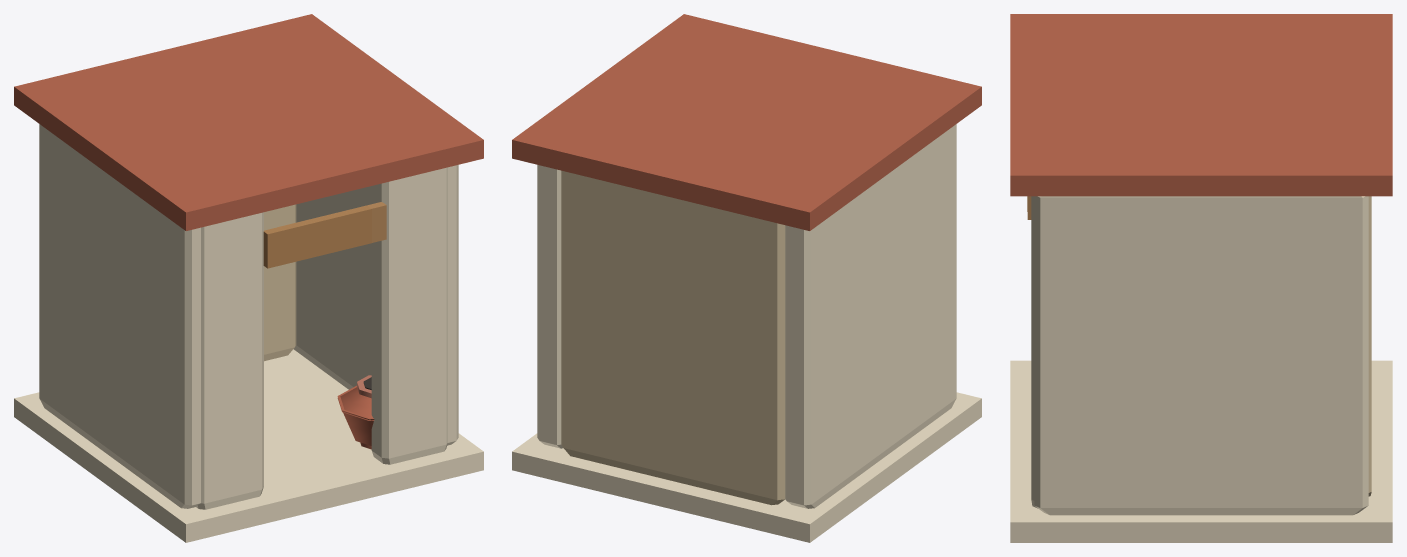
Rendered from pantry.glb.
The picture shows the model from 3 angles, left to right: view 1: azimuth 30°, elevation 25°; view 2: azimuth 150°, elevation 25°; view 3: azimuth 270°, elevation 25°; orthographic projection. The views are drawn at different scales.
Parts seen in each view (by area): view 1: PlasterWall, Floor, DoorSide2, DoorSide, Cap2, Cap4, Cap, PlasterWall2, Cap3, DoorLintel, BackWall, PotBelly3 (+1 smaller); view 2: BackWall, PlasterWall, Cap, Cap3, Floor, Cap2, Cap4, PlasterWall2; view 3: PlasterWall2, Cap3, Cap4, Floor, Cap, Cap2, DoorSide2, BackWall.
Part boxes in pixels (bbox=[...]): PlasterWall: bbox=[39, 124, 200, 508]; Floor: bbox=[14, 349, 483, 542]; DoorSide2: bbox=[371, 167, 447, 464]; DoorSide: bbox=[196, 212, 263, 509]; Cap2: bbox=[100, 113, 334, 230]; Cap4: bbox=[249, 77, 483, 194]; Cap: bbox=[14, 50, 248, 167]; PlasterWall2: bbox=[293, 165, 458, 445]; Cap3: bbox=[163, 14, 397, 112]; DoorLintel: bbox=[263, 202, 386, 268]; BackWall: bbox=[264, 204, 296, 361]; PotBelly3: bbox=[337, 385, 374, 445]; BackWall: bbox=[561, 170, 785, 505]; PlasterWall: bbox=[785, 124, 956, 508]; Cap: bbox=[661, 113, 895, 230]; Cap3: bbox=[512, 77, 746, 194]; Floor: bbox=[512, 392, 981, 542]; Cap2: bbox=[747, 50, 981, 167]; Cap4: bbox=[598, 14, 832, 112]; PlasterWall2: bbox=[537, 165, 563, 448]; PlasterWall2: bbox=[1034, 196, 1368, 515]; Cap3: bbox=[1201, 94, 1392, 196]; Cap4: bbox=[1010, 94, 1201, 196]; Floor: bbox=[1010, 360, 1392, 542]; Cap: bbox=[1201, 14, 1392, 94]; Cap2: bbox=[1010, 14, 1201, 94]; DoorSide2: bbox=[1031, 196, 1037, 508]; BackWall: bbox=[1368, 196, 1371, 496].
Size of the model in its own units: 2 by 2.12 by 2.
